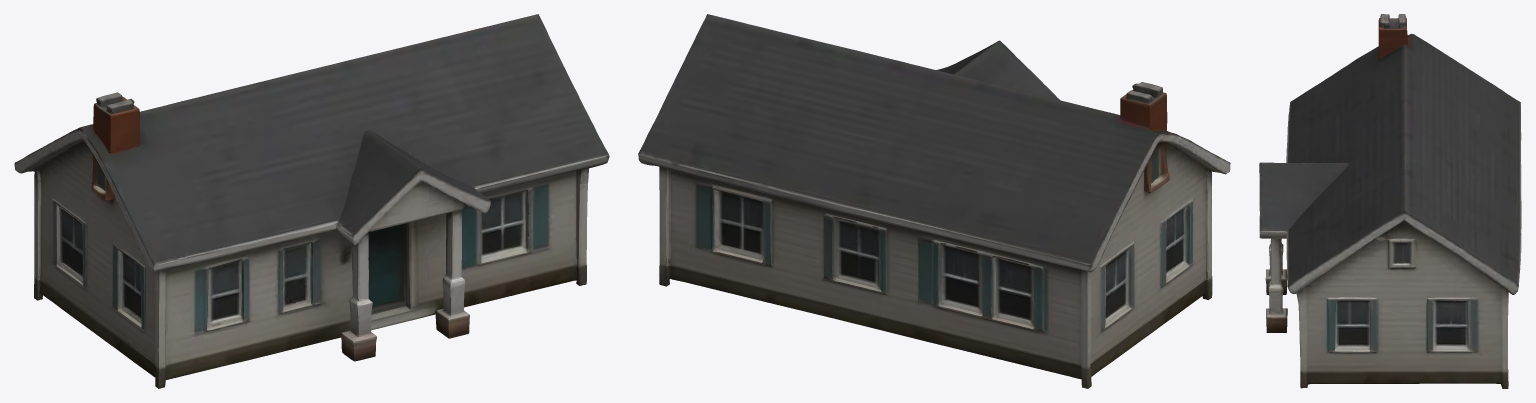
File: house 3.glb
3 renders of one model, left to right at view 1: azimuth 30°, elevation 25°; view 2: azimuth 150°, elevation 25°; view 3: azimuth 270°, elevation 25°, orthographic. The views are drawn at different scales.
Parts seen in each view (by area): view 1: world; view 2: world; view 3: world.
Boxes of the visible parts, x1,y1,x2,y2 form: world: (14, 14, 609, 388); world: (638, 14, 1230, 388); world: (1259, 14, 1521, 388).
Bounding box in the file's own units: 1 × 0.5158 × 0.604.
Materials: 1 (1 with a texture image).
